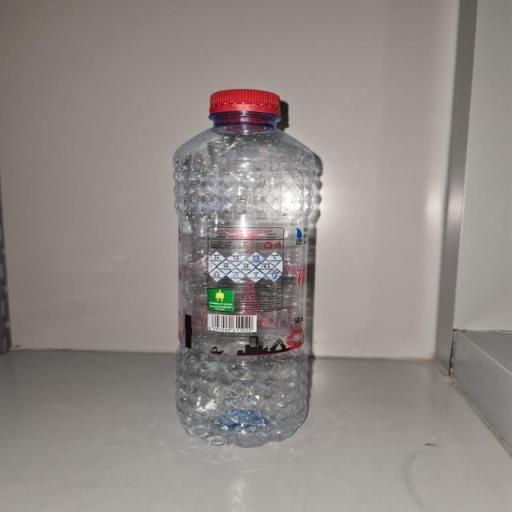plastic: (172, 88, 324, 446)
